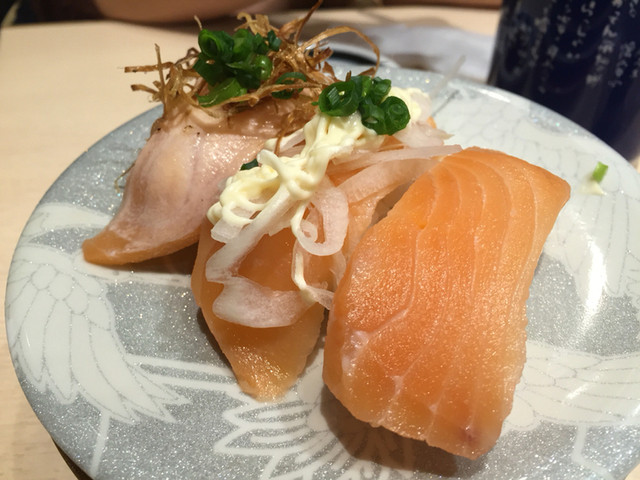salmon: (338, 145, 566, 473)
